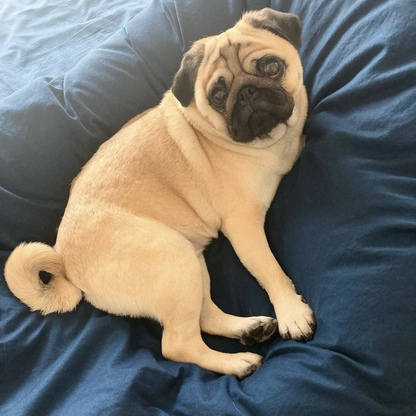Pug: (1, 3, 318, 382)
